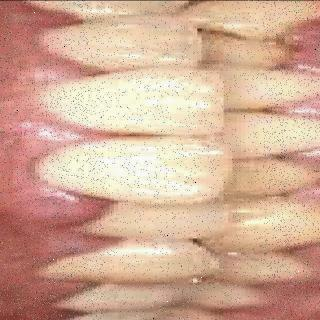Gum Swelling: (6, 0, 82, 318), (266, 14, 320, 316)
maligned: (82, 204, 225, 248), (189, 24, 297, 73)
